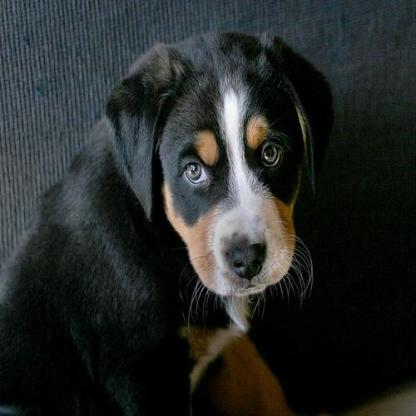Appenzeller: (5, 23, 344, 414)
